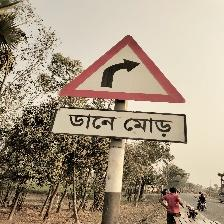Right-turn: (54, 35, 189, 144)
